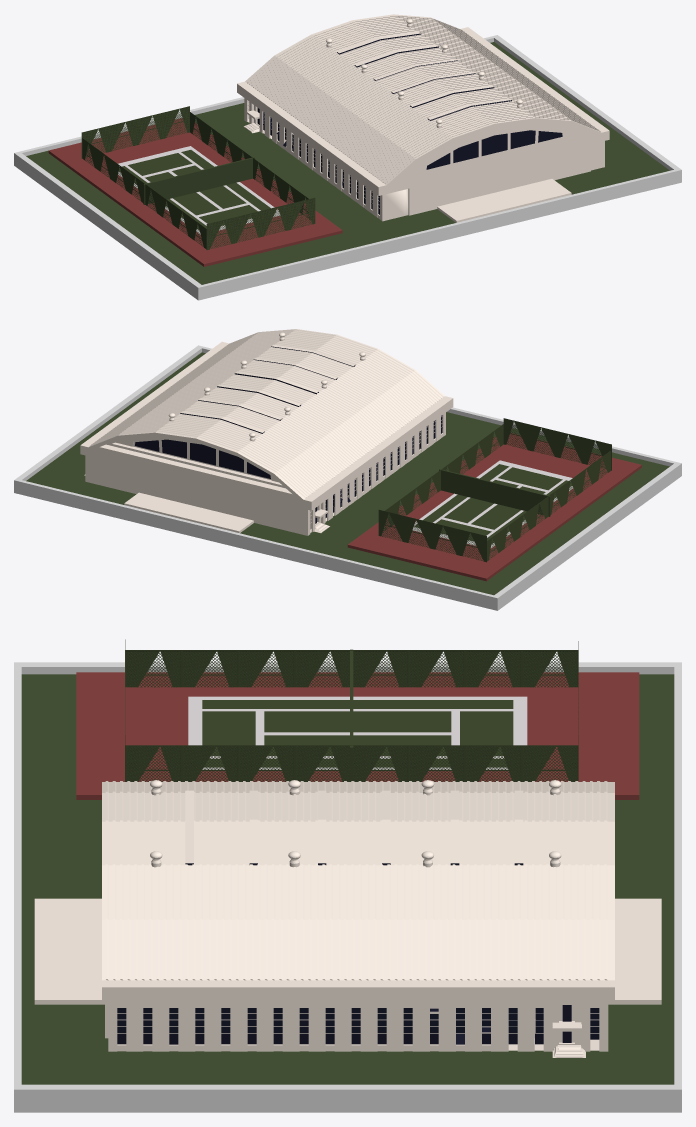
Rendered from 3.Badminton.fbx.
3 renders of one model, top to bottom at view 1: azimuth 30°, elevation 25°; view 2: azimuth 150°, elevation 25°; view 3: azimuth 270°, elevation 25°, orthographic. The views are drawn at different scales.
Visible parts, largest first — view 1: Build.001, Courts.001, Base.005, Base.004, Build.003; view 2: Build.001, Courts.001, Base.005, Base.004, Build.003; view 3: Build.001, Courts.001, Base.005, Base.004, Build.003, Build.002.
Part boxes in pixels (x1,y1,x2,y2): Build.001: [237, 14, 609, 222]; Courts.001: [48, 106, 342, 266]; Base.005: [26, 42, 669, 284]; Base.004: [14, 35, 681, 300]; Build.003: [337, 31, 511, 119]; Build.001: [80, 329, 453, 535]; Courts.001: [347, 418, 641, 581]; Base.005: [26, 352, 669, 595]; Base.004: [14, 345, 681, 610]; Build.003: [181, 344, 354, 432]; Build.001: [34, 781, 661, 1057]; Courts.001: [76, 639, 639, 799]; Base.005: [21, 674, 674, 1084]; Base.004: [14, 662, 681, 1112]; Build.003: [185, 790, 523, 863]; Build.002: [150, 780, 561, 860].
Bounding box in the file's own units: 11244 × 1862 × 7425.
